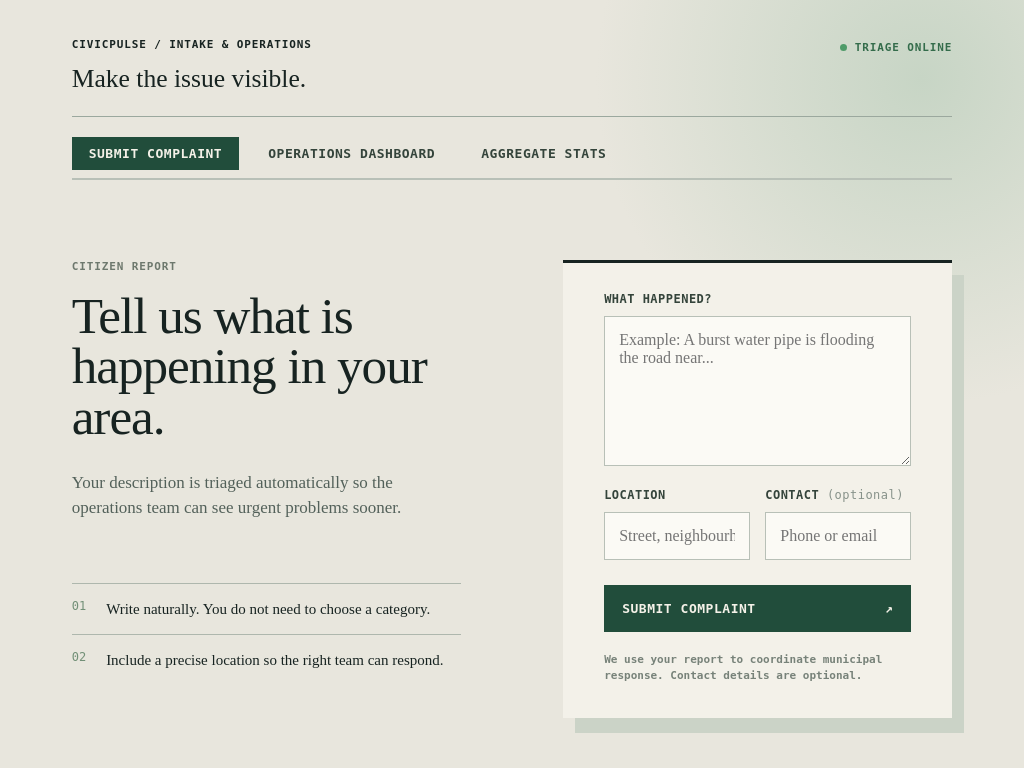
Submit view › shows server failures
The width and height of the screenshot is (1024, 768).
Type "Burst water pipe flooding the road" into the text box labelled "What happened?".
click(758, 391); type("Burst water pipe flooding the road")  # box [604, 316, 911, 466]
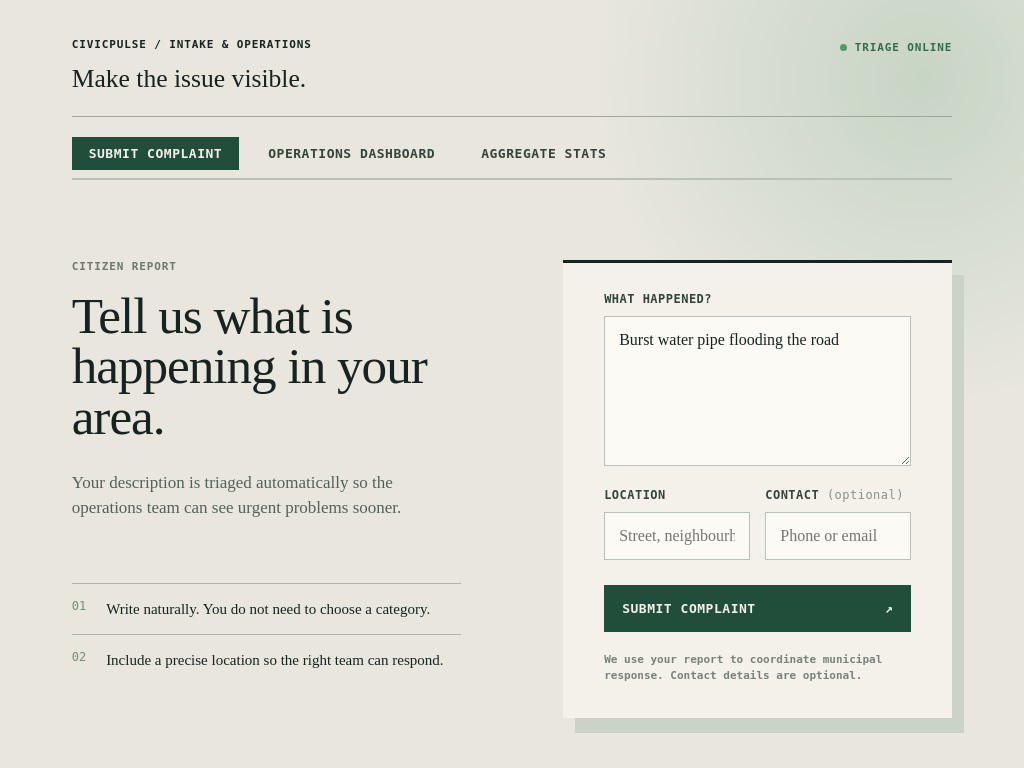
Type "Street 1" into the field labelled "Location".
click(677, 536); type("Street 1")  # box [604, 512, 750, 560]
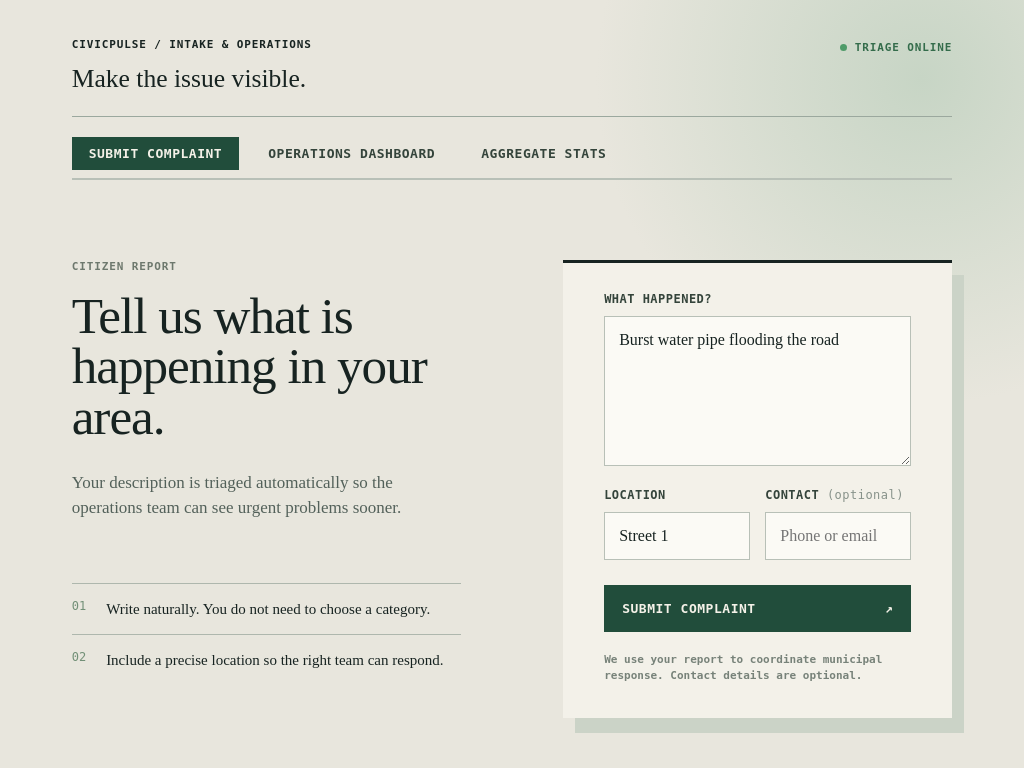
Submit the form, box [563, 260, 952, 718]
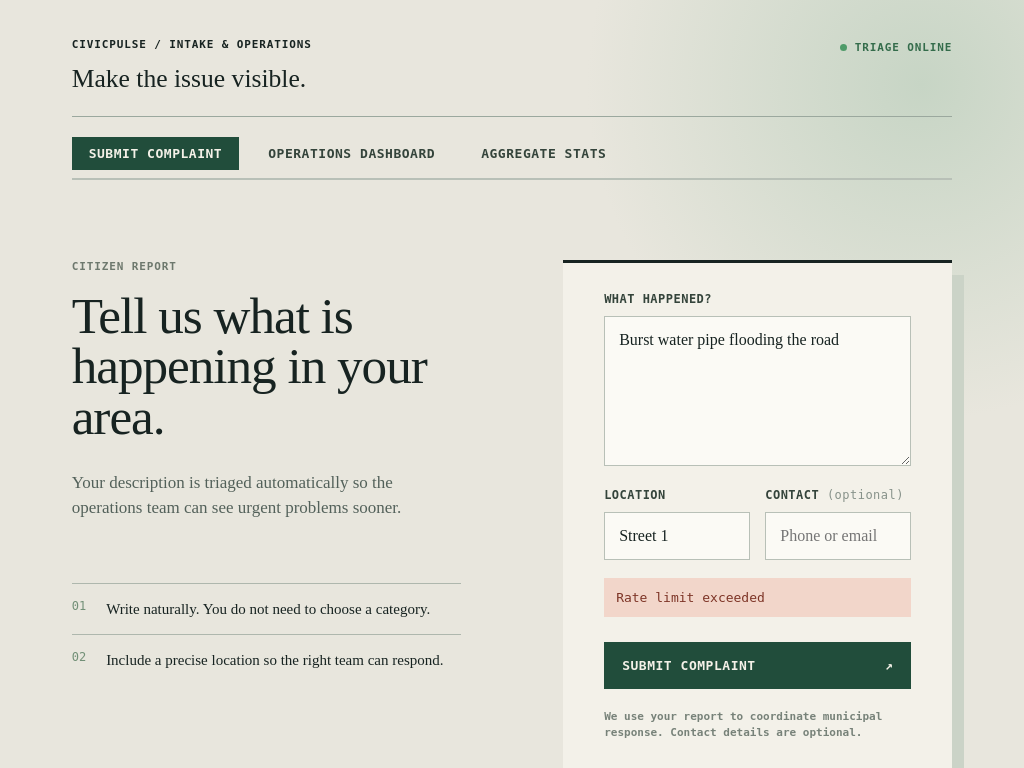
Check: the message reads "Rate limit exceeded", box [616, 590, 765, 605]
